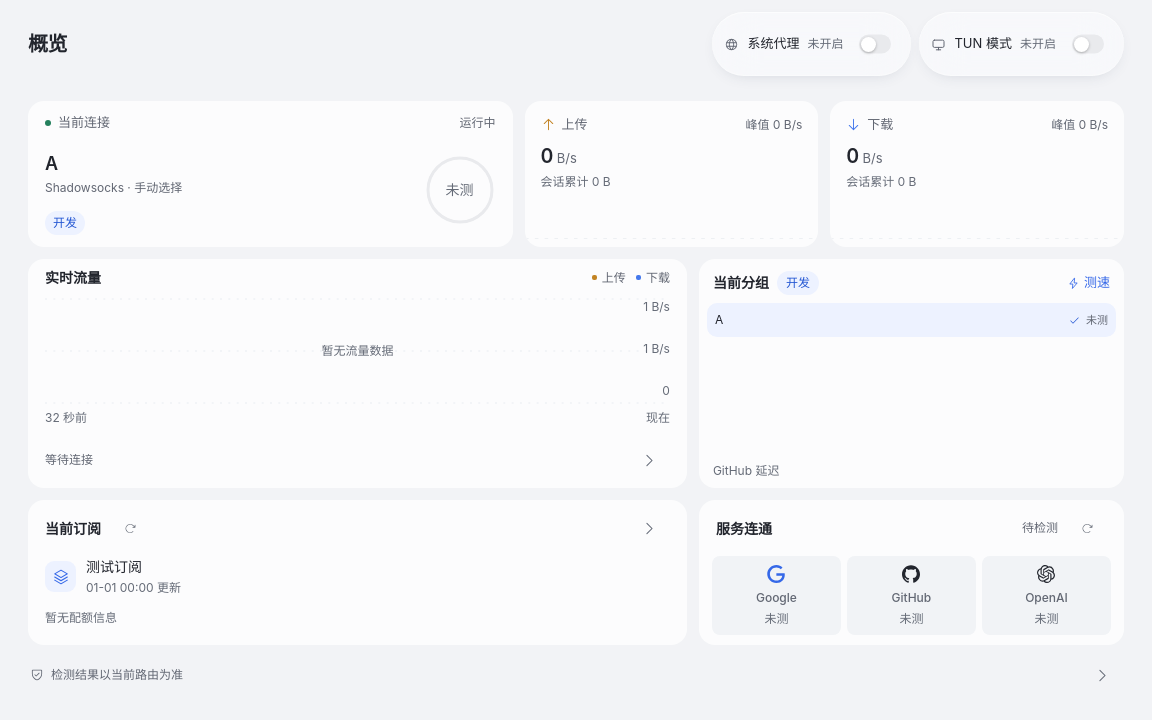
Test: 概览当前组使用相同目标，切换分组不会复用另一目标的结果，失败覆盖旧值
Later steps or results of the test are not shown.
Expected: the element with class "group-card" shows "GitHub 延迟", [713,463,779,478]
Expected: the element with class "group-card" shows "未测", [707,303,1116,337]
Click the button with aria-label "测速当前分组" at point(1088, 283), box [1067,273,1110,293]
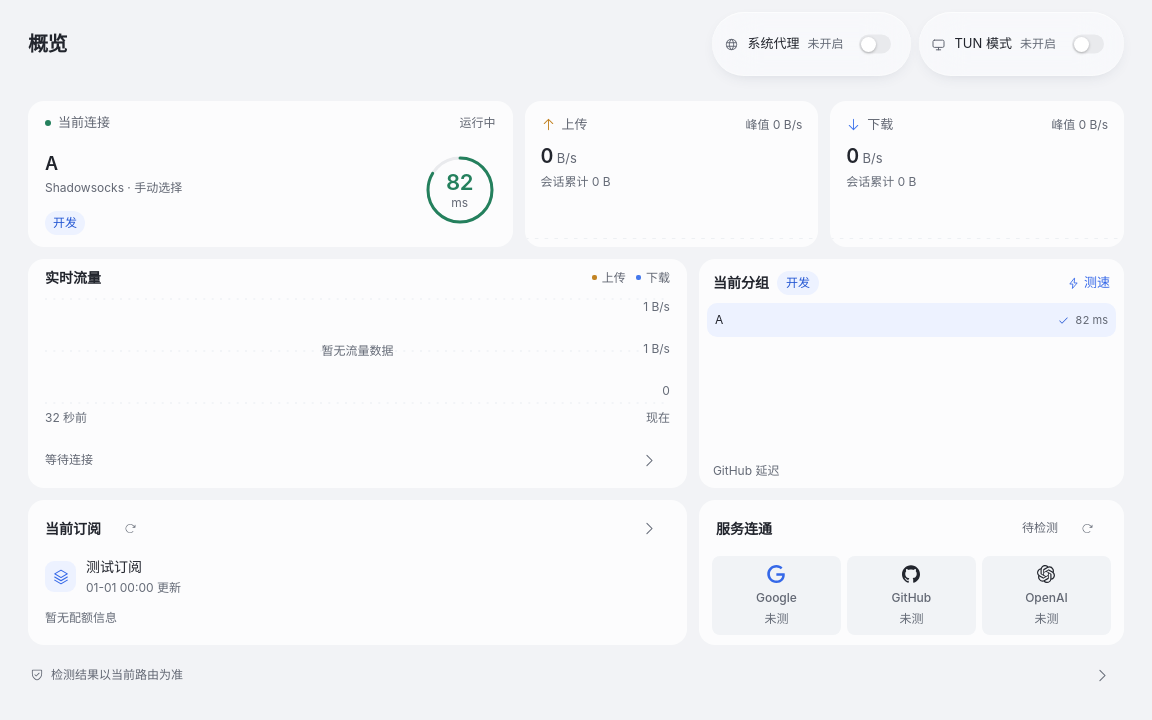
Expected: the element with class "group-card" shows "82 ms", [707,303,1116,337]
